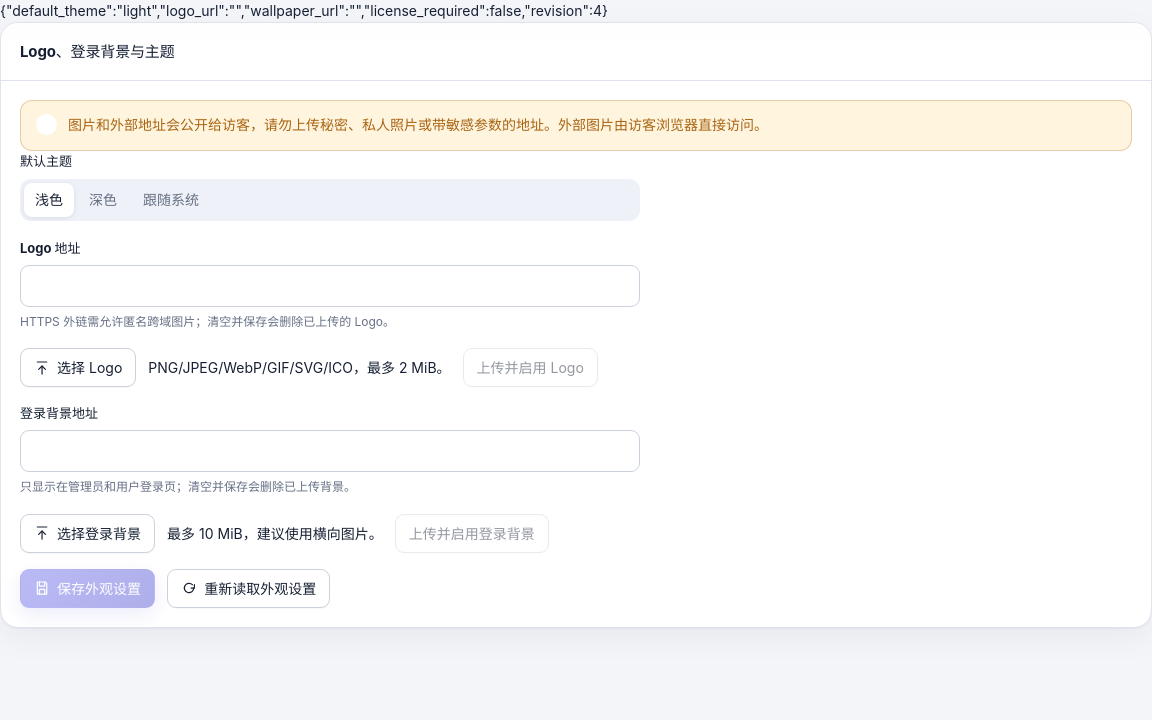
Test: appearance administration › saves normalized public URLs and the standard interface theme
The width and height of the screenshot is (1152, 720).
Click the text "深色" at (103, 200), box [89,189,117,210]
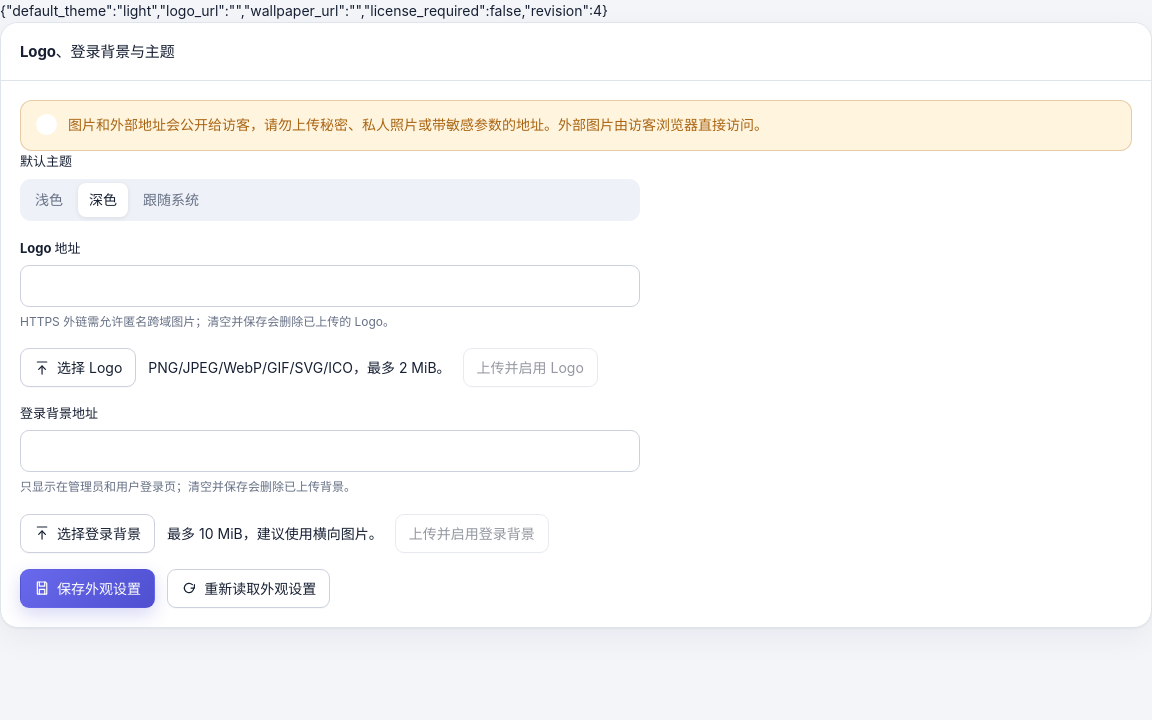
Type "  https://cdn.example.test/logo.png  " into the field labelled "Logo 地址" at (330, 286), box [20,265,640,307]
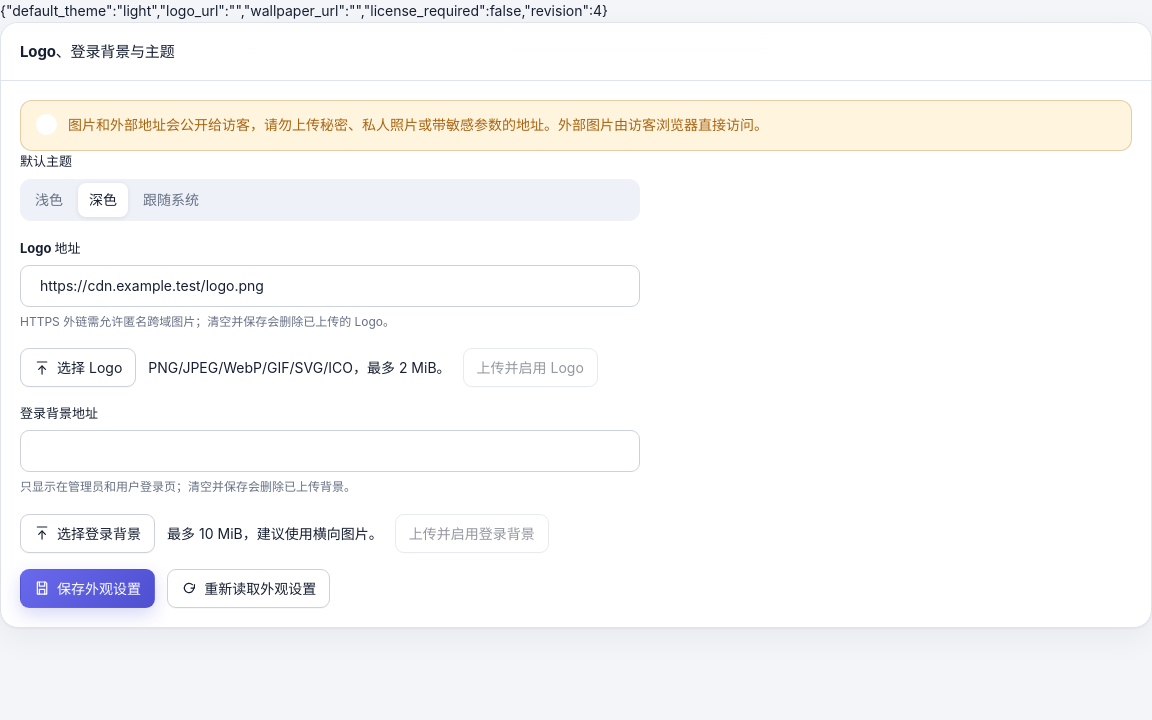
Click the button "保存外观设置" at (88, 588), box [20,569,155,608]
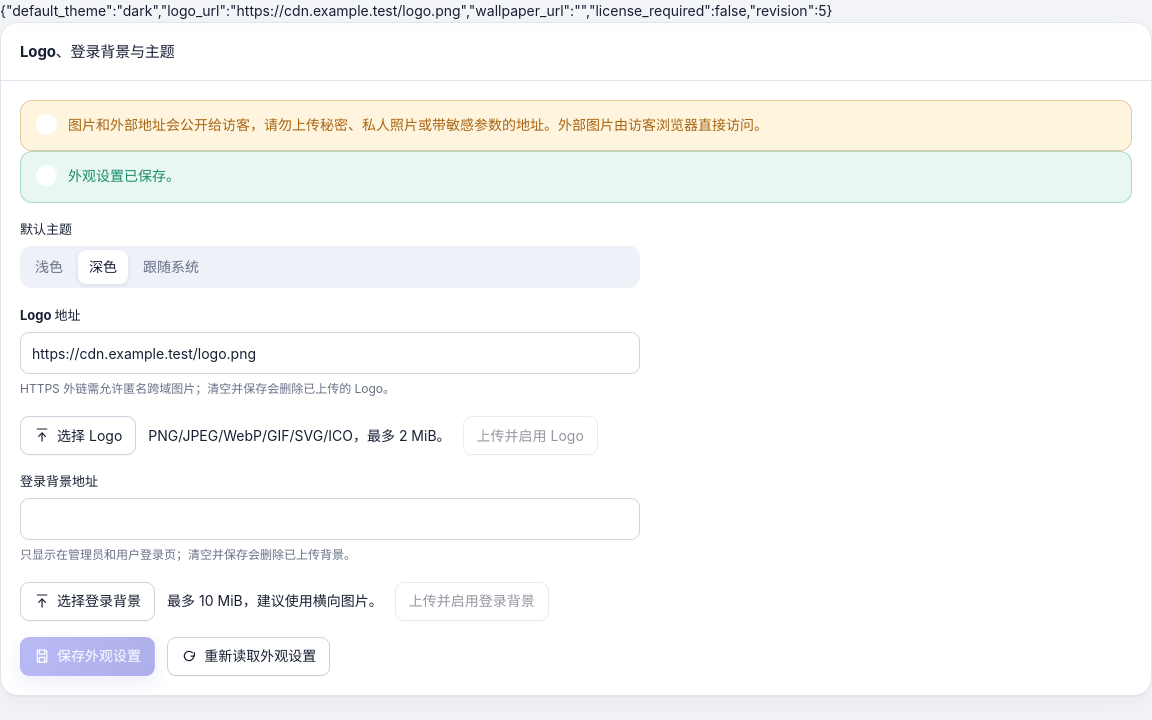
Result: the text "外观设置已保存。" is shown at [68,167,180,184]
Result: the text named "当前外观" shows "\"default_theme\":\"dark\"" at [0,2,832,19]
